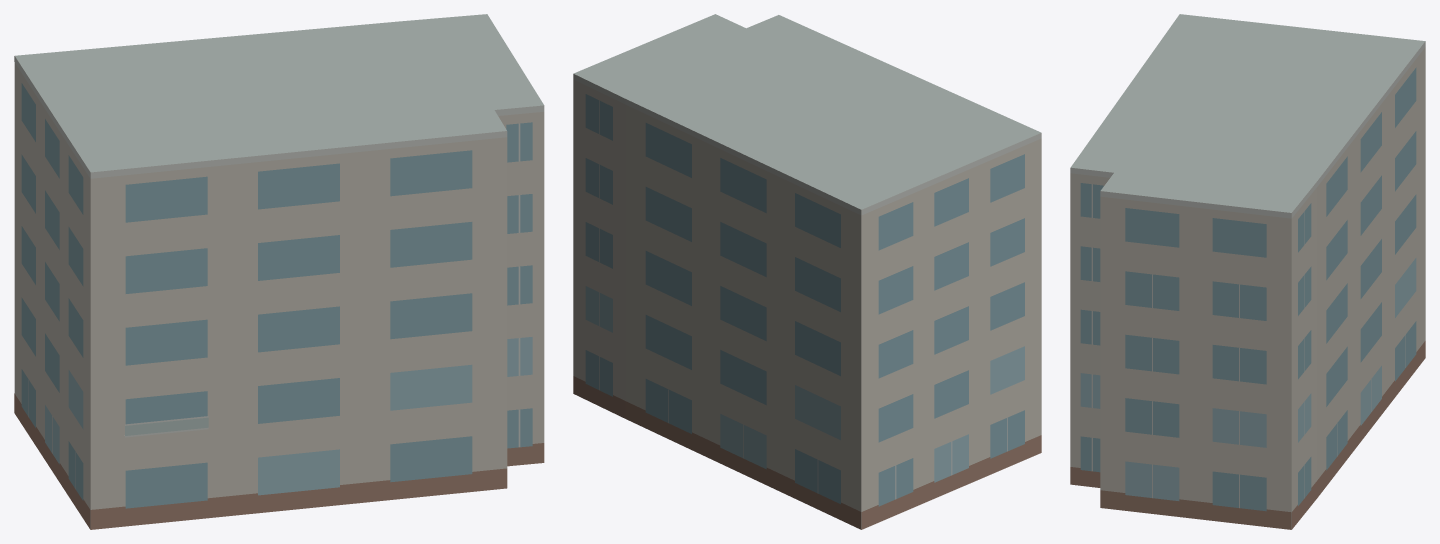
Rendered from survey-upis-32774054.glb.
3 views of the same model, side by side, from view 1: azimuth 30°, elevation 25°; view 2: azimuth 150°, elevation 25°; view 3: azimuth 270°, elevation 25° (orthographic). The views are drawn at different scales.
Visible parts, largest first — view 1: survey-upis-32774054.tmp; view 2: survey-upis-32774054.tmp; view 3: survey-upis-32774054.tmp.
Boxes of the visible parts, box(x1,y1,x2,y2) form: survey-upis-32774054.tmp: box(14, 14, 544, 529); survey-upis-32774054.tmp: box(573, 14, 1041, 529); survey-upis-32774054.tmp: box(1070, 14, 1425, 529).
Size of the model in its own units: 18.53 by 13.75 by 13.97.
